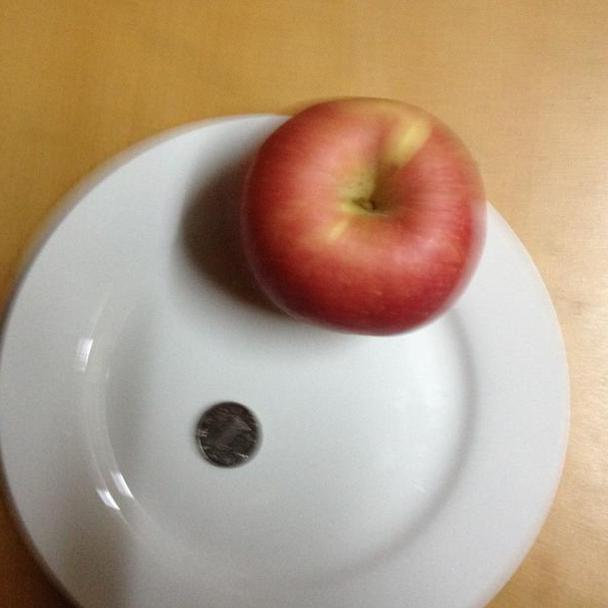apple: (240, 96, 487, 336)
